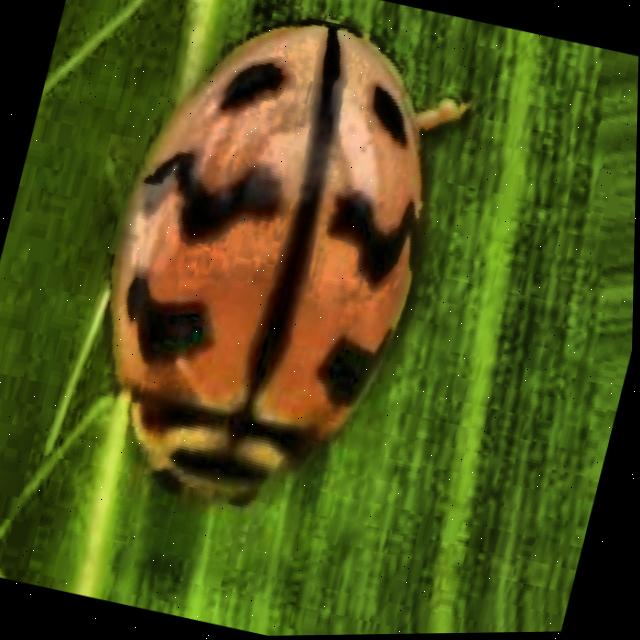Asian-Lady-beetle: (0, 0, 537, 640)
